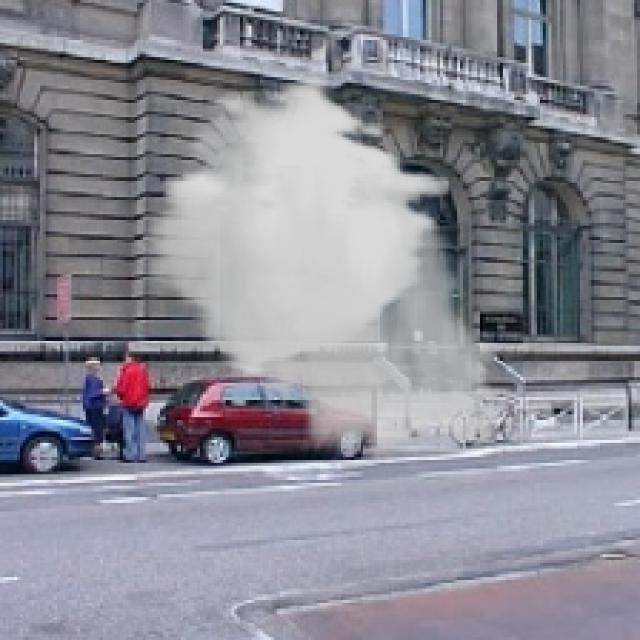Smoke: (143, 74, 520, 469)
